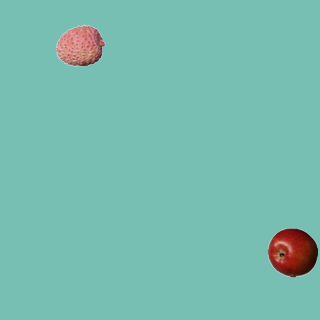Apple Braeburn: (267, 227, 317, 277)
Lychee: (55, 20, 105, 70)
